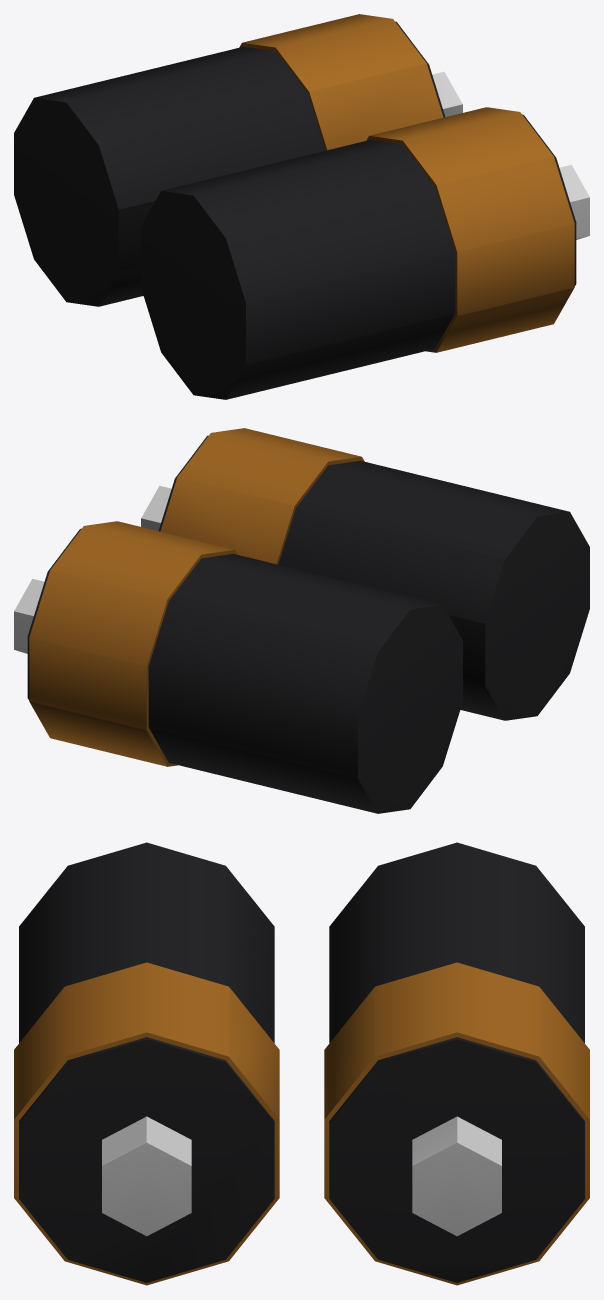
Rendered from pilas.glb.
3 renders of one model, top to bottom at view 1: azimuth 30°, elevation 25°; view 2: azimuth 150°, elevation 25°; view 3: azimuth 270°, elevation 25°, orthographic. The views are drawn at different scales.
Visible parts, largest first — view 1: pilas; view 2: pilas; view 3: pilas.
Part boxes in pixels (left/top/right/bottom): pilas: left=14, top=14, right=589, bottom=399; pilas: left=14, top=428, right=589, bottom=813; pilas: left=14, top=842, right=589, bottom=1285.
Size of the model in its own units: 0.0515 by 0.027 by 0.0557.
